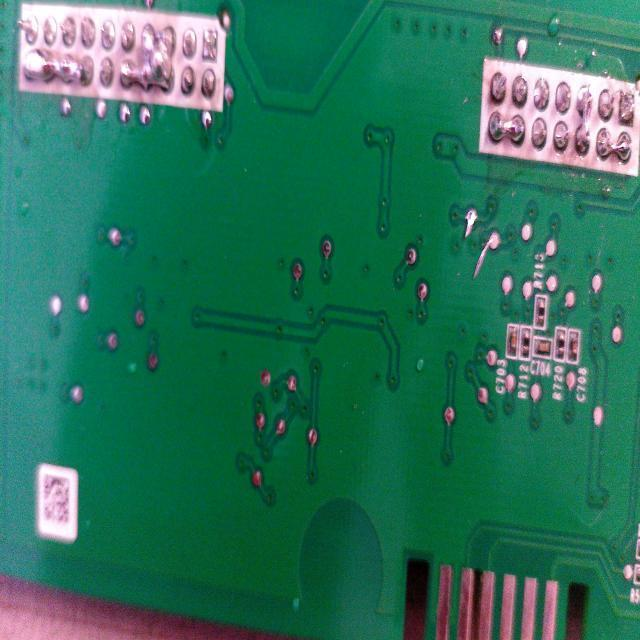Soldering shorted: (119, 16, 174, 106), (18, 44, 96, 96), (486, 108, 526, 148), (598, 123, 632, 167), (575, 77, 592, 156)
